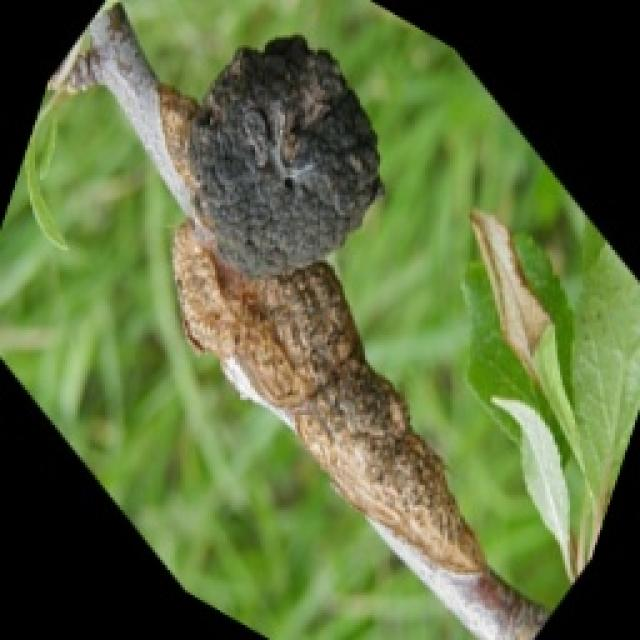Black_knot: (177, 30, 385, 278)
